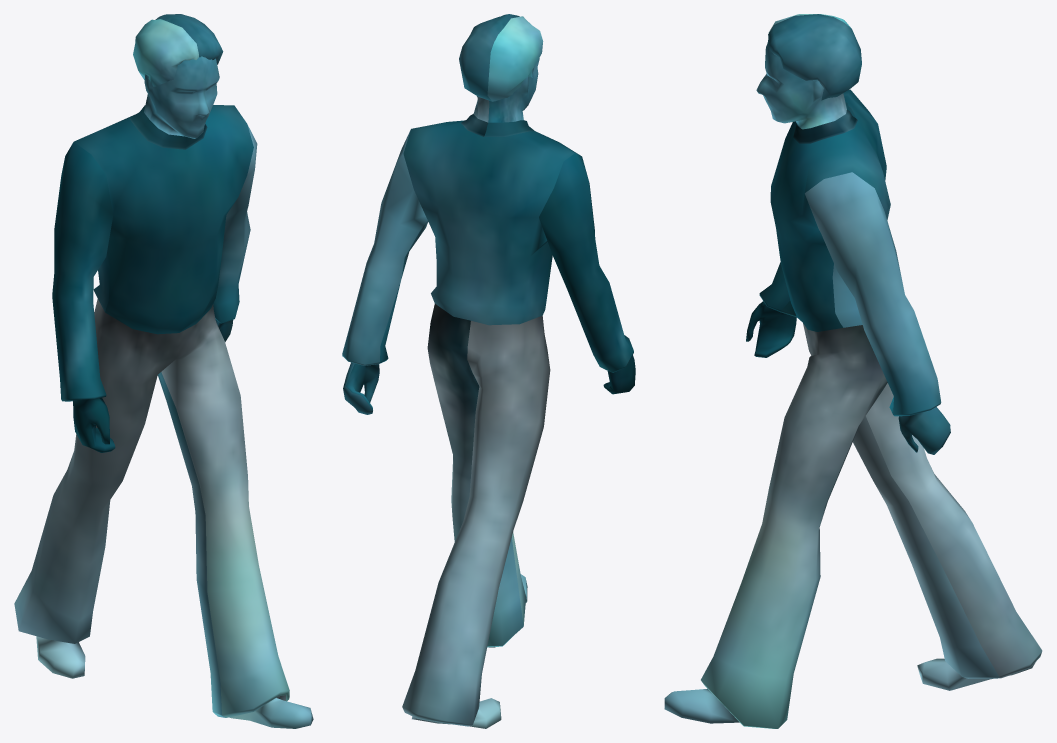
The model's file is simpleMan01.obj.
3 views of the same model, side by side, from view 1: azimuth 30°, elevation 25°; view 2: azimuth 150°, elevation 25°; view 3: azimuth 270°, elevation 25° (orthographic). The views are drawn at different scales.
Visible parts, largest first — view 1: uomo; view 2: uomo; view 3: uomo.
Part boxes in pixels (box(x1,y1,x2,y2)): uomo: box(14, 14, 313, 728); uomo: box(342, 14, 635, 728); uomo: box(664, 14, 1042, 728).
Bounding box in the file's own units: 1.75 × 4.9 × 2.44.
